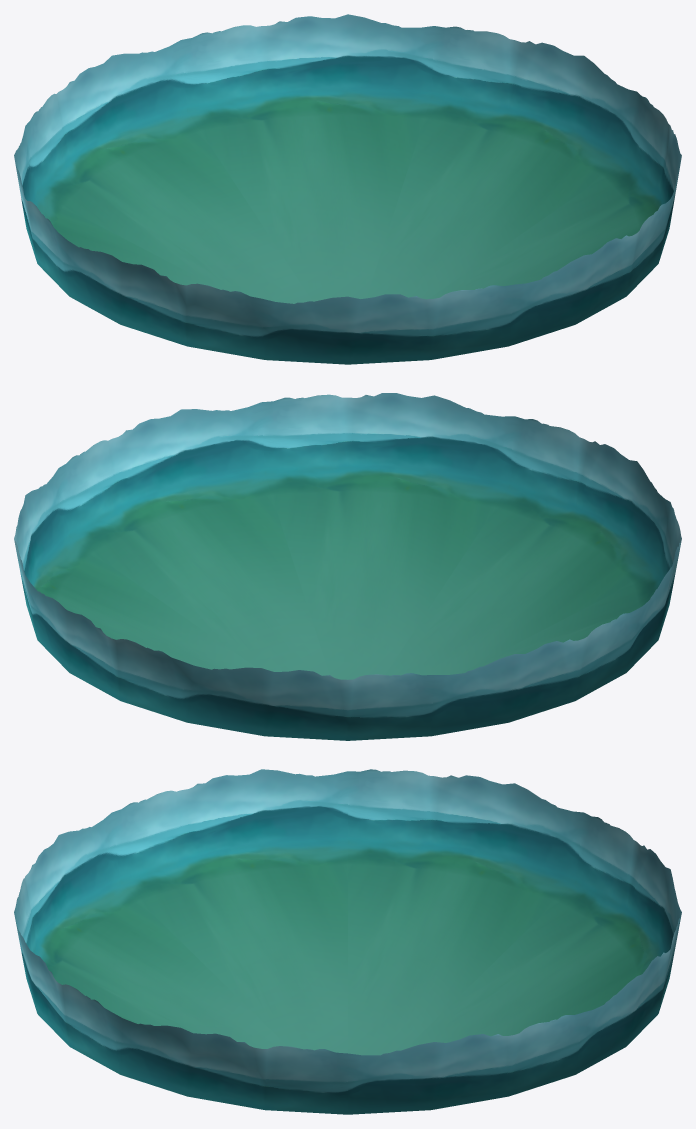
File: SK_DistantView_002.FBX
3 views of the same model, one above another, from view 1: azimuth 30°, elevation 25°; view 2: azimuth 150°, elevation 25°; view 3: azimuth 270°, elevation 25° (orthographic).
Parts seen in each view (by area): view 1: SK_DistantView_002; view 2: SK_DistantView_002; view 3: SK_DistantView_002.
Boxes of the visible parts, x1,y1,x2,y2 form: SK_DistantView_002: (14,14,681,364); SK_DistantView_002: (14,393,681,740); SK_DistantView_002: (14,769,681,1114).
Size of the model in its own units: 20825 by 6880 by 20825.
1 material, 1 textured.
